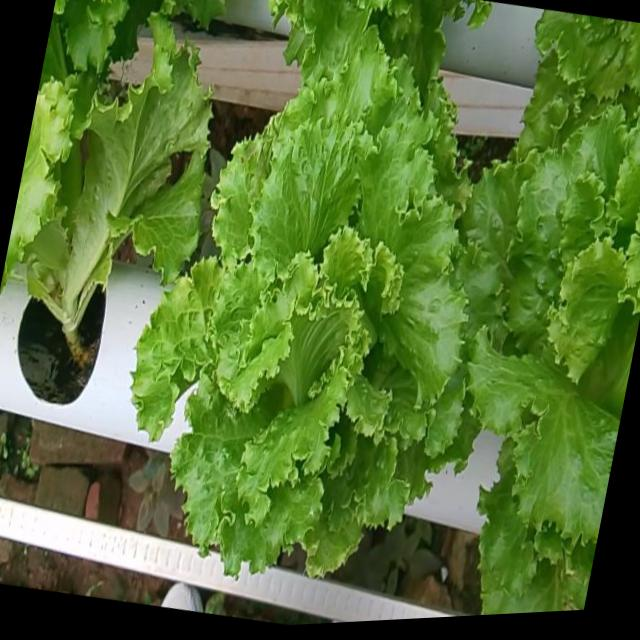Mature: (122, 65, 463, 595), (448, 121, 640, 569)
